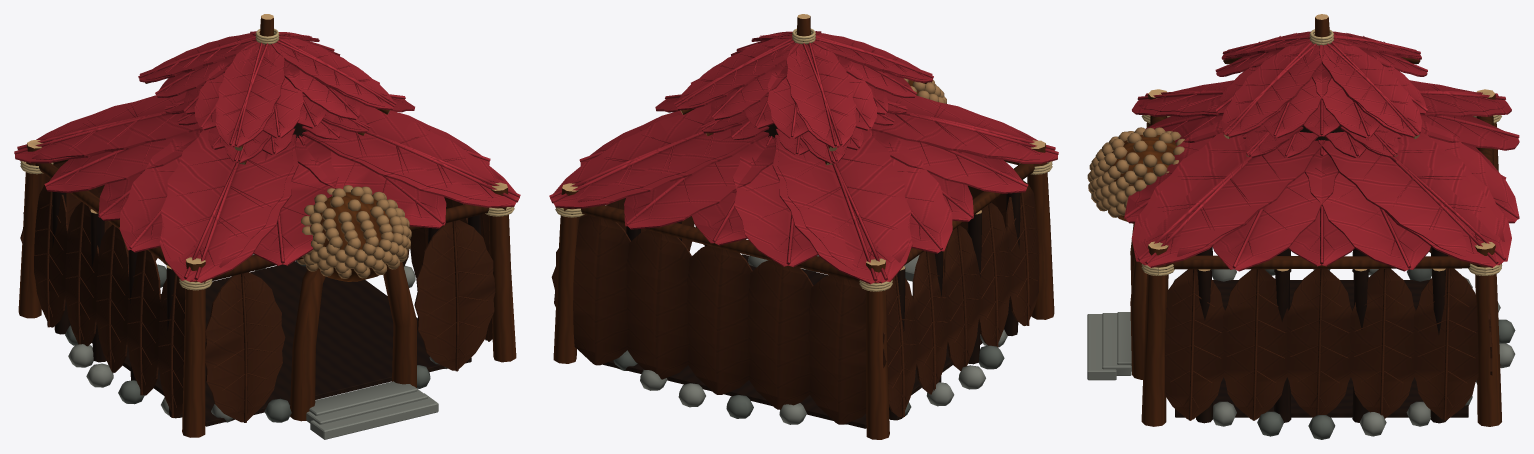
The picture shows the model from 3 angles, left to right: view 1: azimuth 30°, elevation 25°; view 2: azimuth 150°, elevation 25°; view 3: azimuth 270°, elevation 25°; orthographic projection. The views are drawn at different scales.
Visible parts, largest first — view 1: canopy-great-mound · evaluated preview mesh; view 2: canopy-great-mound · evaluated preview mesh; view 3: canopy-great-mound · evaluated preview mesh.
Boxes of the visible parts, left/top/right/bottom form: canopy-great-mound · evaluated preview mesh: left=14, top=14, right=520, bottom=439; canopy-great-mound · evaluated preview mesh: left=549, top=14, right=1058, bottom=439; canopy-great-mound · evaluated preview mesh: left=1087, top=14, right=1519, bottom=439.
Size of the model in its own units: 8 by 6.99 by 8.08.
Materials: 10 (5 with a texture image).
